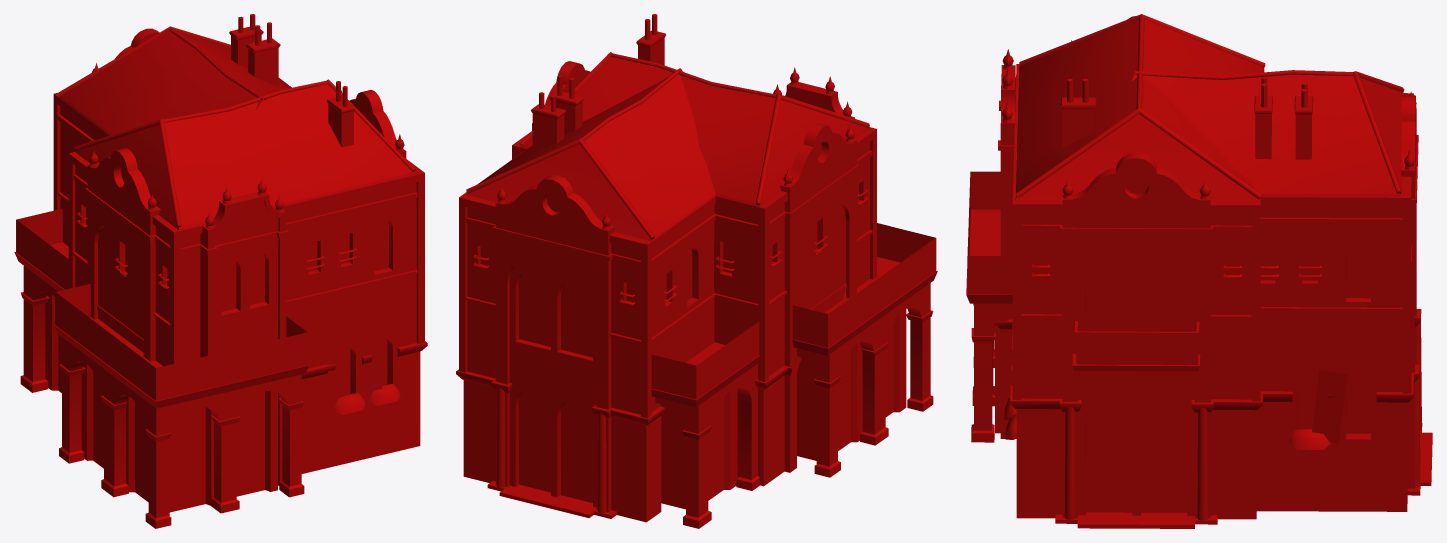
Rendered from residence_colony01_tier02_04_house_02_lod0.glb.
The picture shows the model from 3 angles, left to right: view 1: azimuth 30°, elevation 25°; view 2: azimuth 150°, elevation 25°; view 3: azimuth 270°, elevation 25°; orthographic projection. The views are drawn at different scales.
Parts seen in each view (by area): view 1: MODEL_residence_colony01_tier02_04_house_02_lod0; view 2: MODEL_residence_colony01_tier02_04_house_02_lod0; view 3: MODEL_residence_colony01_tier02_04_house_02_lod0.
Part boxes in pixels (x1,y1,x2,y2): MODEL_residence_colony01_tier02_04_house_02_lod0: (14, 14, 427, 528); MODEL_residence_colony01_tier02_04_house_02_lod0: (456, 14, 937, 528); MODEL_residence_colony01_tier02_04_house_02_lod0: (966, 14, 1432, 528).
Bounding box in the file's own units: 1.7 × 1.84 × 1.9.
